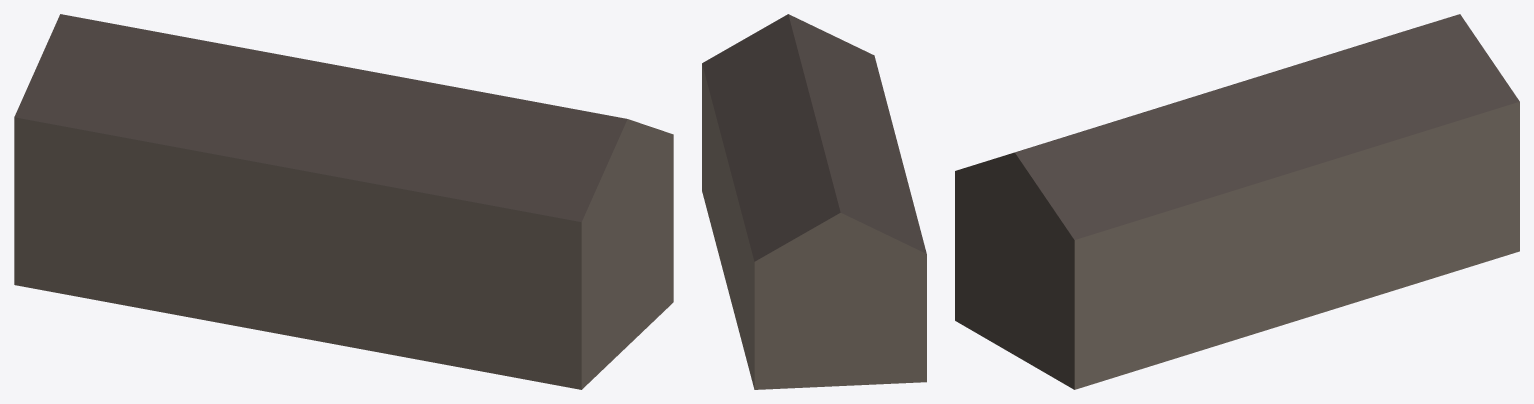
3 views of the same model, side by side, from view 1: azimuth 30°, elevation 25°; view 2: azimuth 150°, elevation 25°; view 3: azimuth 270°, elevation 25° (orthographic). The views are drawn at different scales.
Visible parts, largest first — view 1: HP-w440730276; view 2: HP-w440730276; view 3: HP-w440730276.
Part boxes in pixels (box(x1,y1,x2,y2)): HP-w440730276: box(14, 14, 673, 389); HP-w440730276: box(702, 14, 926, 389); HP-w440730276: box(955, 14, 1519, 389).
Bounding box in the file's own units: 17.85 × 8.12 × 20.5.
